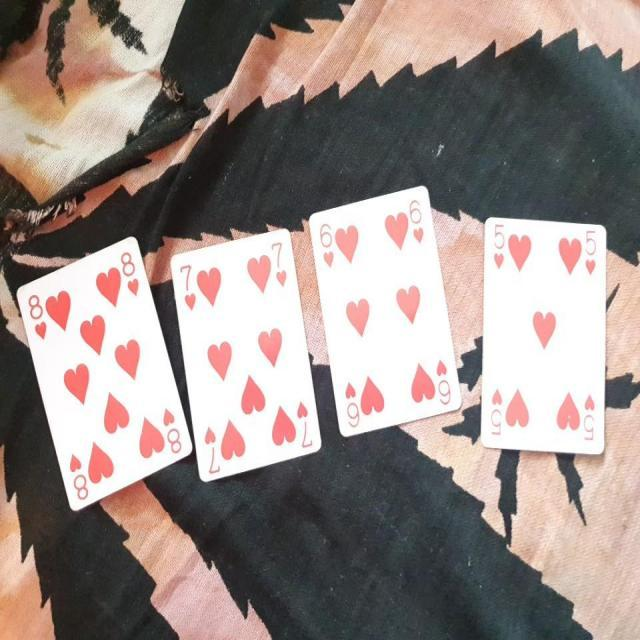5 of hearts: (483, 209, 614, 467)
6 of hearts: (304, 178, 466, 442)
7 of hearts: (166, 222, 327, 486)
8 of hearts: (14, 230, 198, 532)
